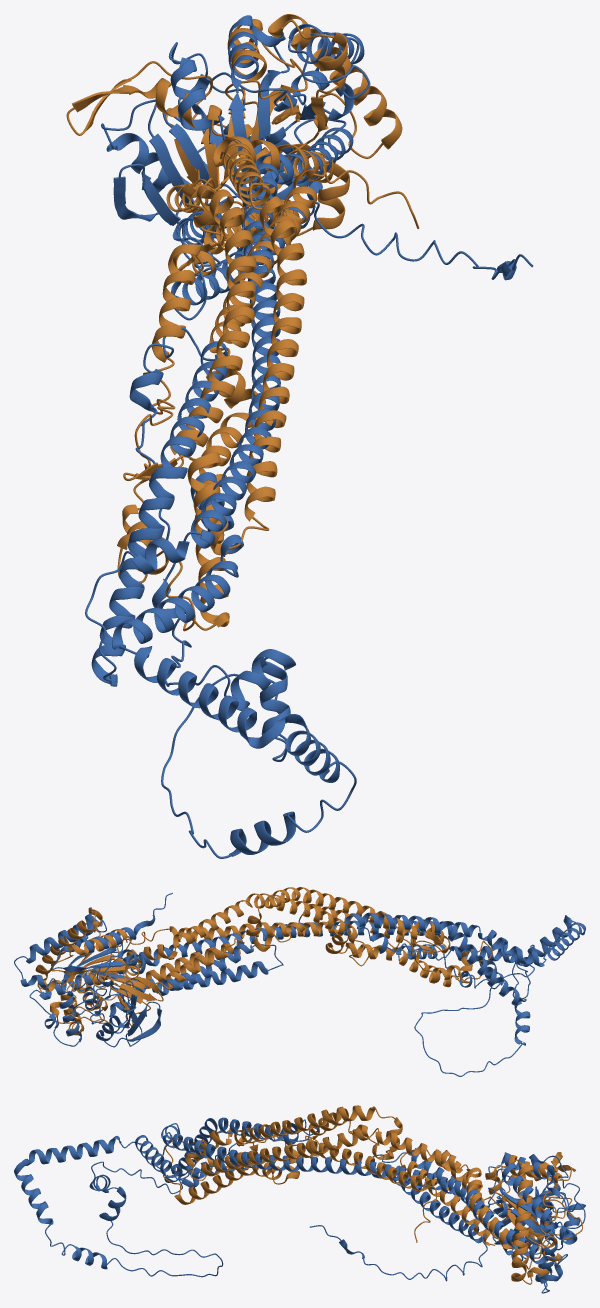
File: AF-Q9RFR9-F1-AF-A0A6Q8PGA3-F1.glb
3 renders of one model, top to bottom at view 1: azimuth 30°, elevation 25°; view 2: azimuth 150°, elevation 25°; view 3: azimuth 270°, elevation 25°, orthographic. The views are drawn at different scales.
Bounding box in the file's own units: 130 × 84.04 × 188.
